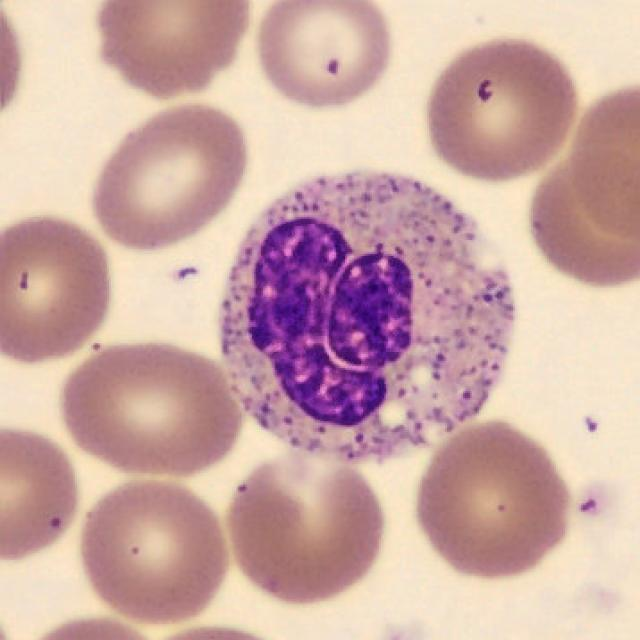Neutrofilo segmentado: (220, 171, 517, 462)
